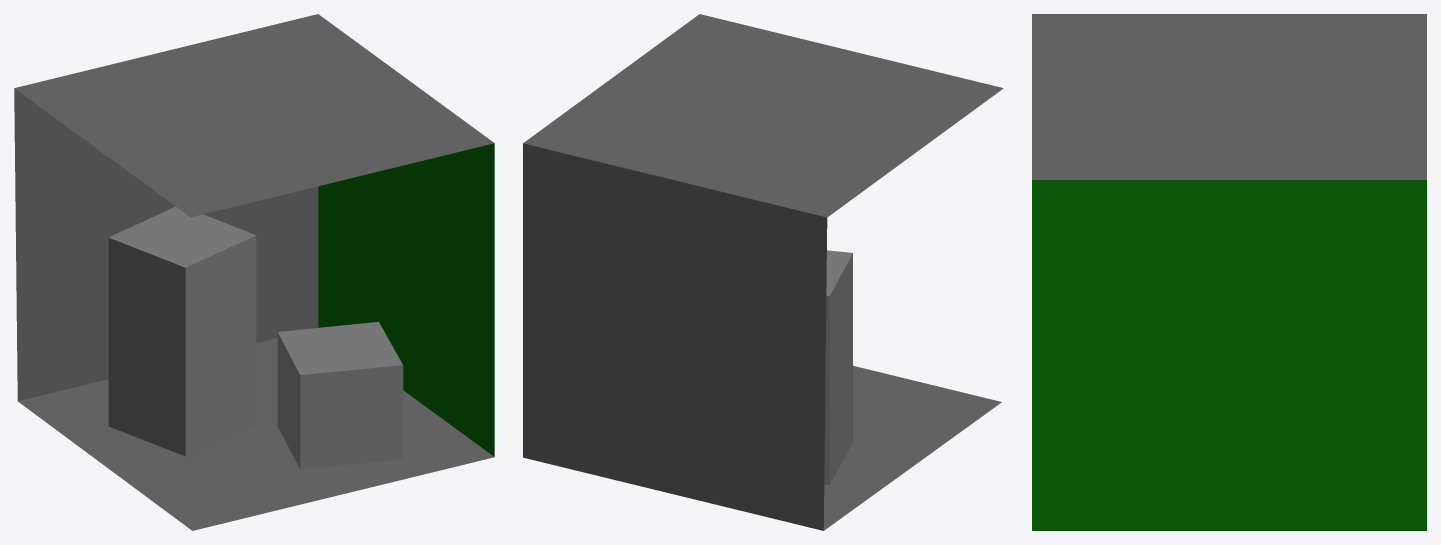
File: cornell_box.obj
The picture shows the model from 3 angles, left to right: view 1: azimuth 30°, elevation 25°; view 2: azimuth 150°, elevation 25°; view 3: azimuth 270°, elevation 25°; orthographic projection. The views are drawn at different scales.
Visible parts, largest first — view 1: cornell_box; view 2: cornell_box; view 3: cornell_box.
Part boxes in pixels (x1,y1,x2,y2): cornell_box: (14, 14, 494, 530); cornell_box: (523, 14, 1003, 530); cornell_box: (1032, 14, 1426, 530).
Bounding box in the file's own units: 5.56 × 5.49 × 5.59.
